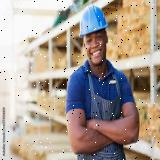Helmet: (79, 4, 109, 39)
